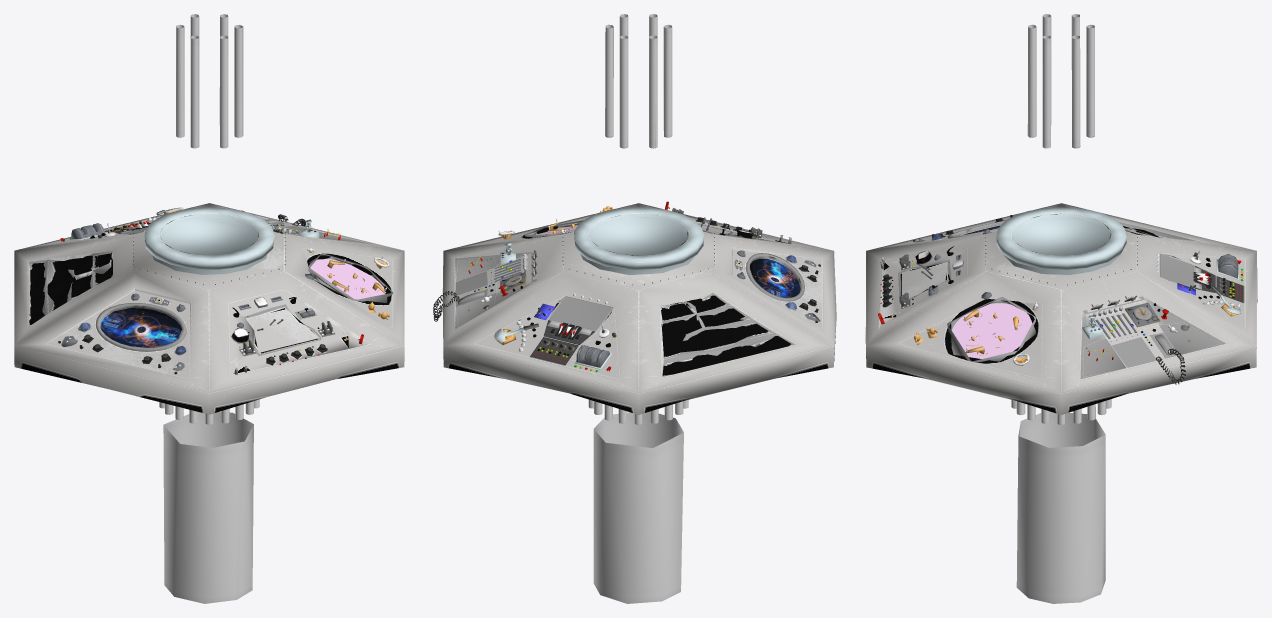
The model's file is console.obj.
The picture shows the model from 3 angles, left to right: view 1: azimuth 30°, elevation 25°; view 2: azimuth 150°, elevation 25°; view 3: azimuth 270°, elevation 25°; orthographic projection.
Visible parts, largest first — view 1: 8.Console; view 2: 8.Console; view 3: 8.Console.
Part boxes in pixels (x1,y1,x2,y2): 8.Console: (14,14,404,603); 8.Console: (433,14,836,603); 8.Console: (865,14,1257,603).
Bounding box in the file's own units: 2.89 × 3.95 × 2.51.
1 material, 1 textured.
